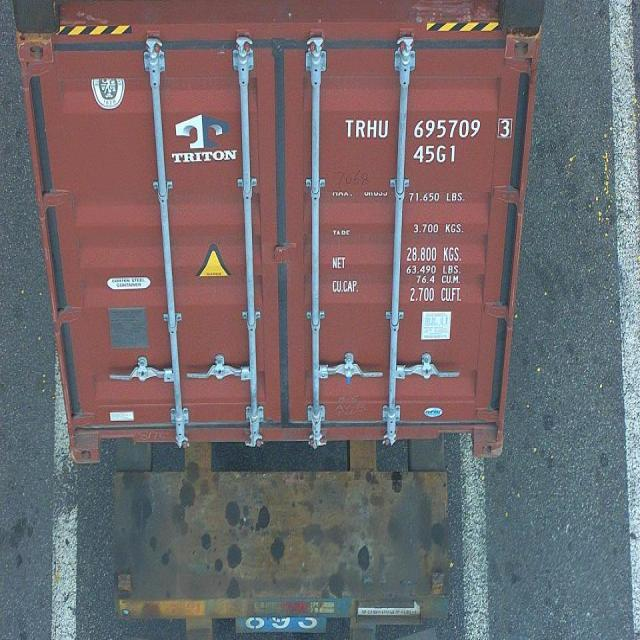ISO: (414, 144, 458, 164)
container_number: (347, 116, 500, 140)
